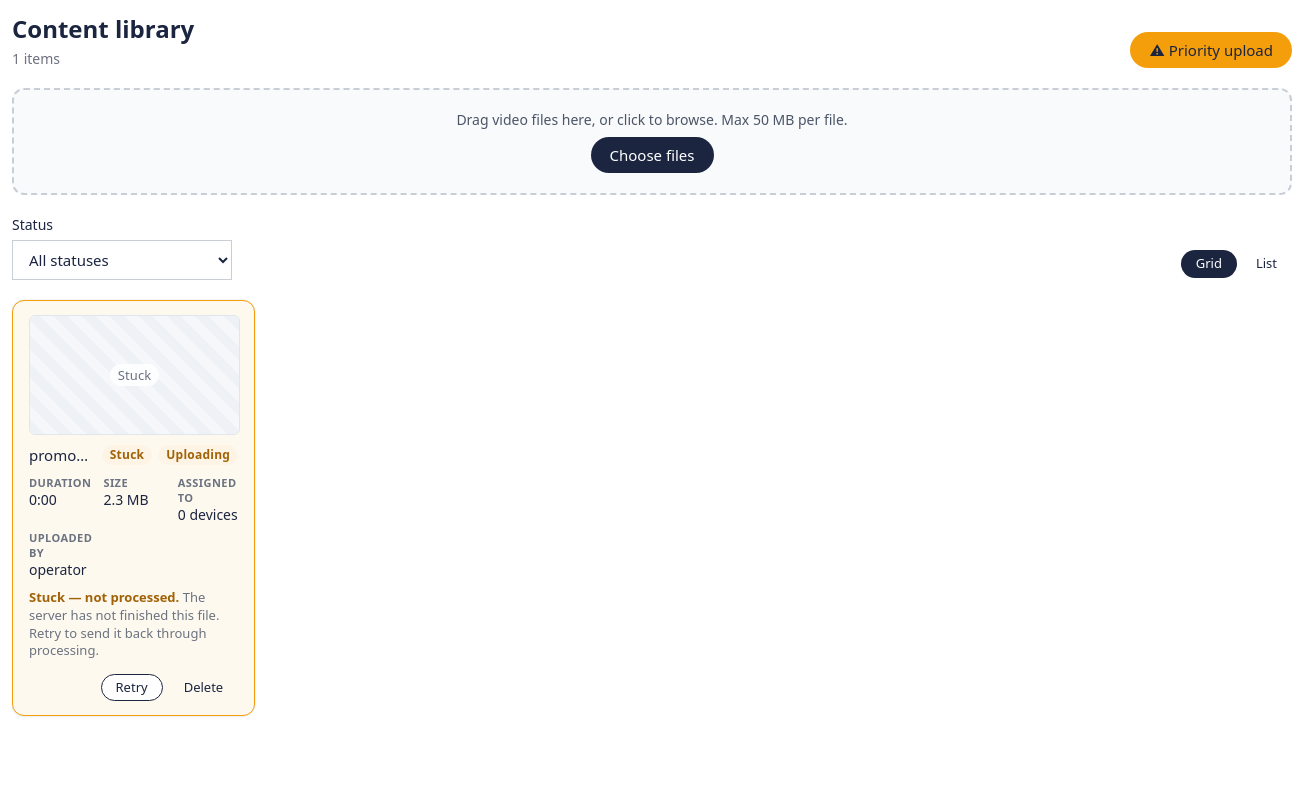
ContentPage — Retry › falls back to an optimistic TRANSCODING when the response carries no status
Expected: the text "Stuck — not processed." is shown, top-left (29, 588), bottom-right (179, 606)
Click the button "Retry".
click(132, 687)  # box top-left (100, 674), bottom-right (163, 701)
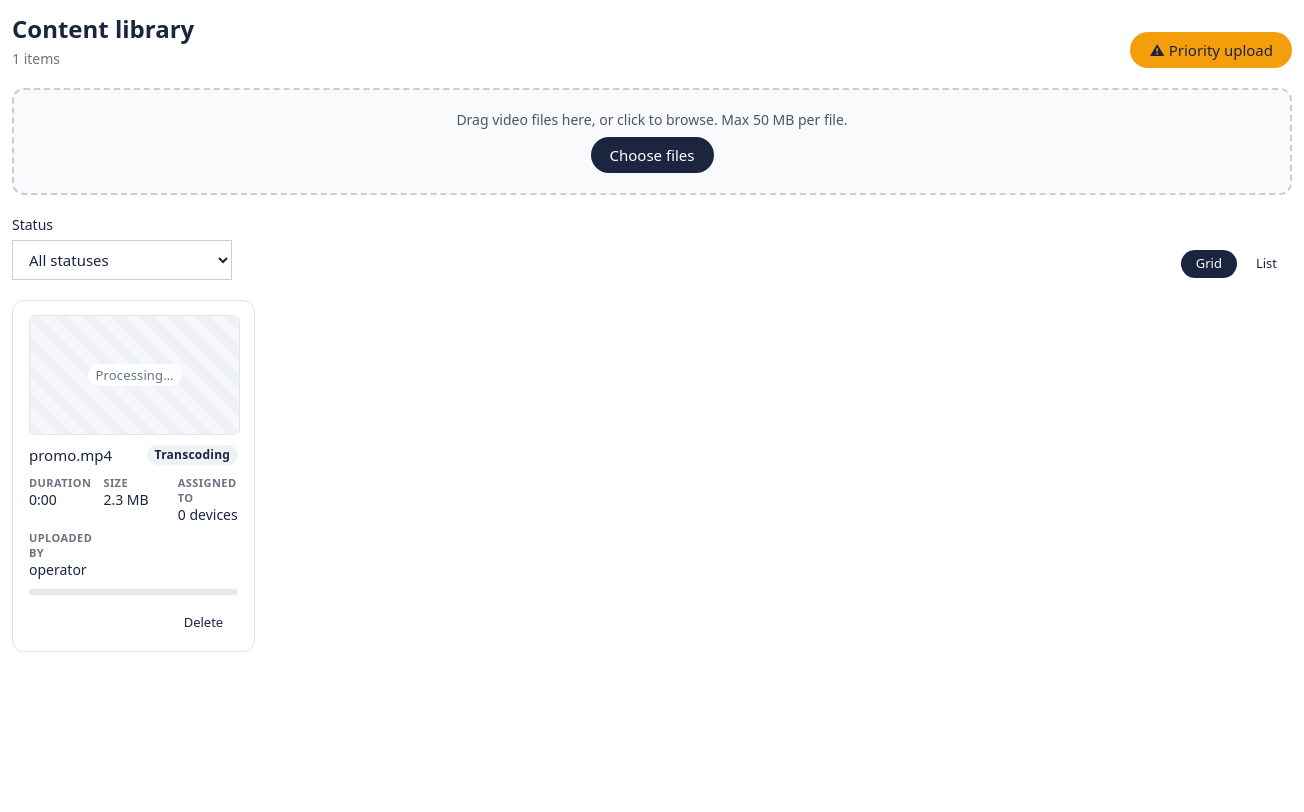
Result: the text "Transcoding" is shown at top-left (147, 445), bottom-right (238, 466)
